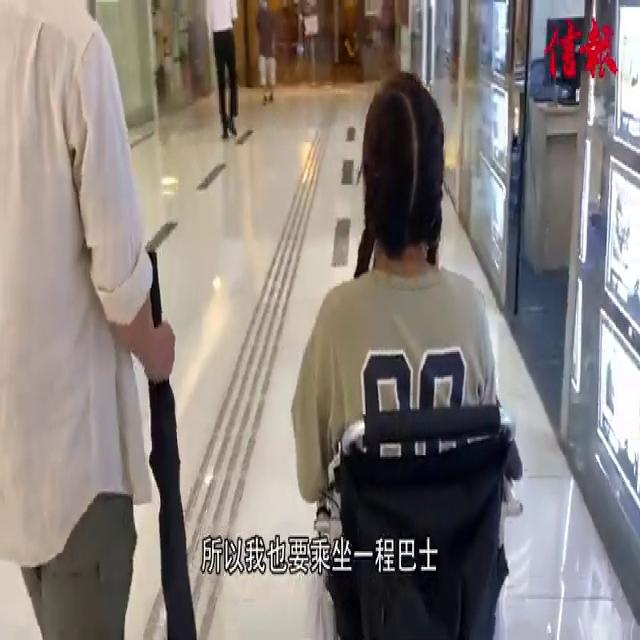wheelchairs: (312, 385, 531, 640)
